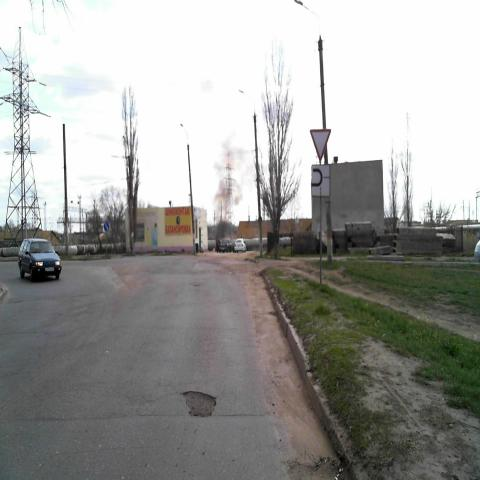2_4: (310, 128, 332, 160)
